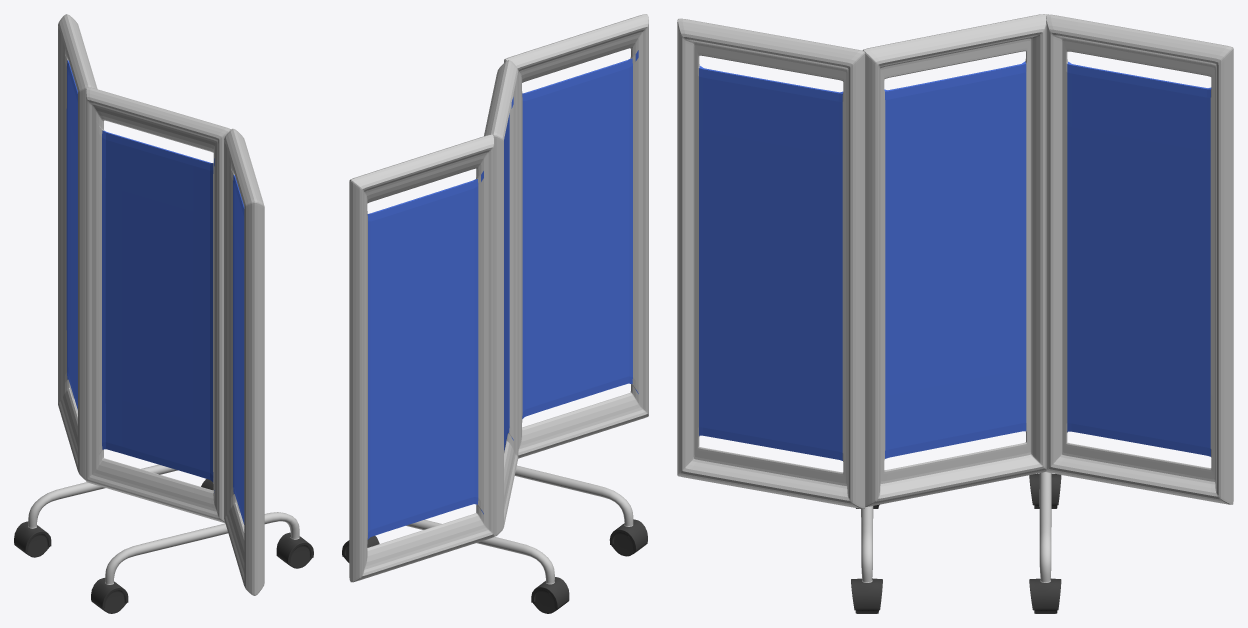
File: Biombo.fbx
3 renders of one model, left to right at view 1: azimuth 30°, elevation 25°; view 2: azimuth 150°, elevation 25°; view 3: azimuth 270°, elevation 25°, orthographic. The views are drawn at different scales.
Visible parts, largest first — view 1: Cube.001, Cube, Cube.002, Cylinder.001, Cylinder.002; view 2: Cube.002, Cube, Cube.001, Cylinder.001, Cylinder.002; view 3: Cube, Cube.002, Cube.001, Cylinder.002, Cylinder.001.
Part boxes in pixels (x1=…): Cube.001: x1=86, y1=87, x2=230, y2=522; Cube: x1=224, y1=128, x2=264, y2=595; Cube.002: x1=58, y1=14, x2=97, y2=480; Cylinder.001: x1=91, y1=512, x2=313, y2=613; Cylinder.002: x1=14, y1=464, x2=213, y2=557; Cube.002: x1=349, y1=134, x2=494, y2=582; Cube: x1=504, y1=14, x2=648, y2=458; Cube.001: x1=484, y1=60, x2=518, y2=536; Cylinder.001: x1=514, y1=465, x2=647, y2=556; Cylinder.002: x1=342, y1=519, x2=569, y2=613; Cube: x1=677, y1=18, x2=865, y2=508; Cube.002: x1=1046, y1=14, x2=1233, y2=504; Cube.001: x1=862, y1=14, x2=1046, y2=507; Cylinder.002: x1=1029, y1=472, x2=1061, y2=613; Cylinder.001: x1=851, y1=504, x2=882, y2=613.
Size of the model in its own units: 361 by 740 by 711.
